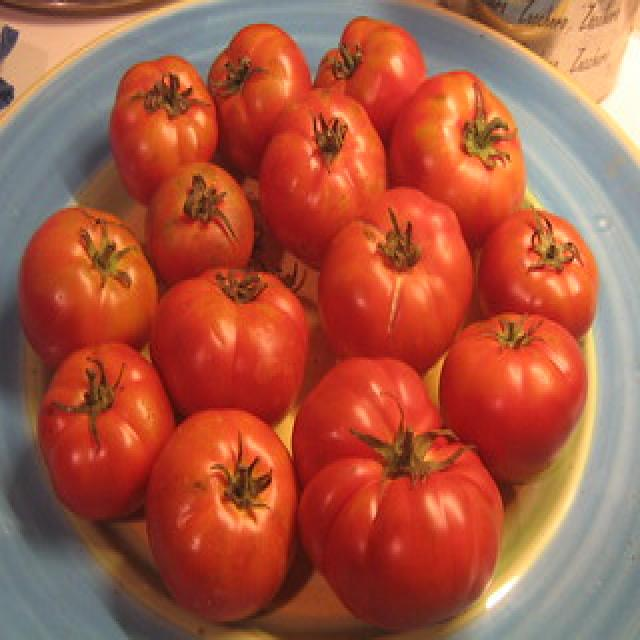Tomato: (289, 353, 507, 632), (141, 402, 302, 627), (314, 182, 478, 371), (435, 308, 591, 490), (36, 342, 174, 527), (148, 265, 308, 423), (256, 86, 392, 268), (388, 67, 528, 239), (14, 203, 162, 359), (458, 205, 601, 355), (104, 51, 221, 202), (206, 19, 313, 175), (139, 154, 257, 284), (312, 17, 430, 134)
